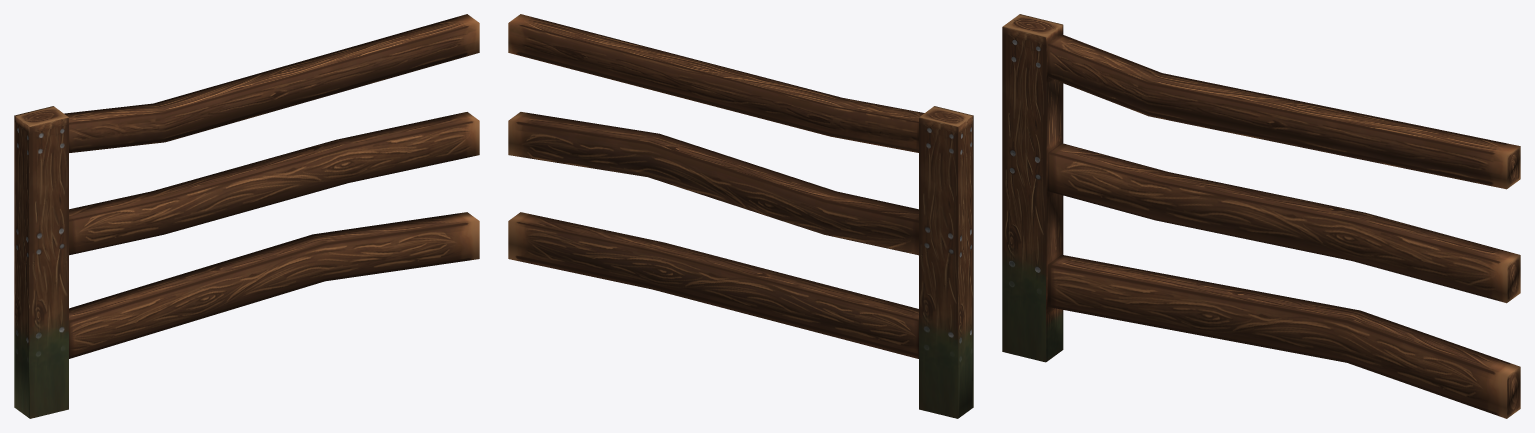
The model's file is cerca3.fbx.
The picture shows the model from 3 angles, left to right: view 1: azimuth 30°, elevation 25°; view 2: azimuth 150°, elevation 25°; view 3: azimuth 330°, elevation 25°; orthographic projection. The views are drawn at different scales.
Parts seen in each view (by area): view 1: CA_OPE_Props_Fazenda; view 2: CA_OPE_Props_Fazenda; view 3: CA_OPE_Props_Fazenda.
Part boxes in pixels (box(x1,y1,x2,y2)): CA_OPE_Props_Fazenda: box(14, 14, 479, 418); CA_OPE_Props_Fazenda: box(508, 14, 973, 418); CA_OPE_Props_Fazenda: box(1002, 14, 1520, 418).
Size of the model in its own units: 3.32 by 2.05 by 0.2783.
